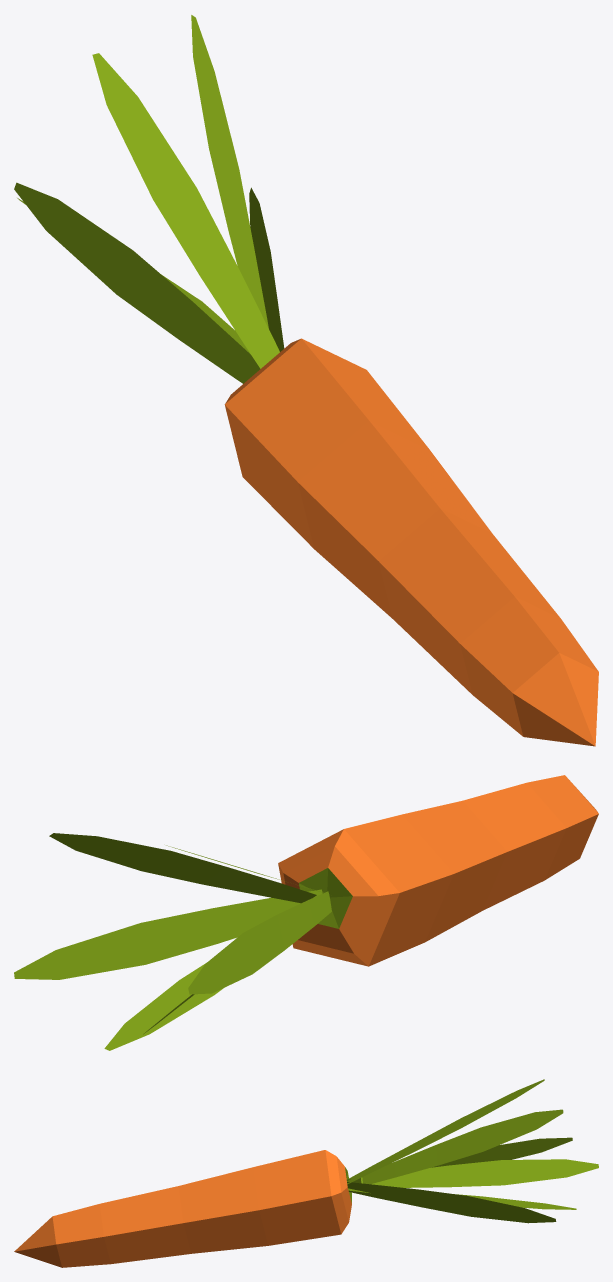
File: Carrotfbx.fbx
3 renders of one model, top to bottom at view 1: azimuth 30°, elevation 25°; view 2: azimuth 150°, elevation 25°; view 3: azimuth 270°, elevation 25°, orthographic. The views are drawn at different scales.
Visible parts, largest first — view 1: Cone; view 2: Cone; view 3: Cone.
Part boxes in pixels (box(x1,y1,x2,y2)): Cone: box(14, 15, 598, 746); Cone: box(14, 775, 598, 1050); Cone: box(14, 1079, 598, 1267).
Size of the model in its own units: 472 by 649 by 1896.
Materials: 1 (1 with a texture image).
